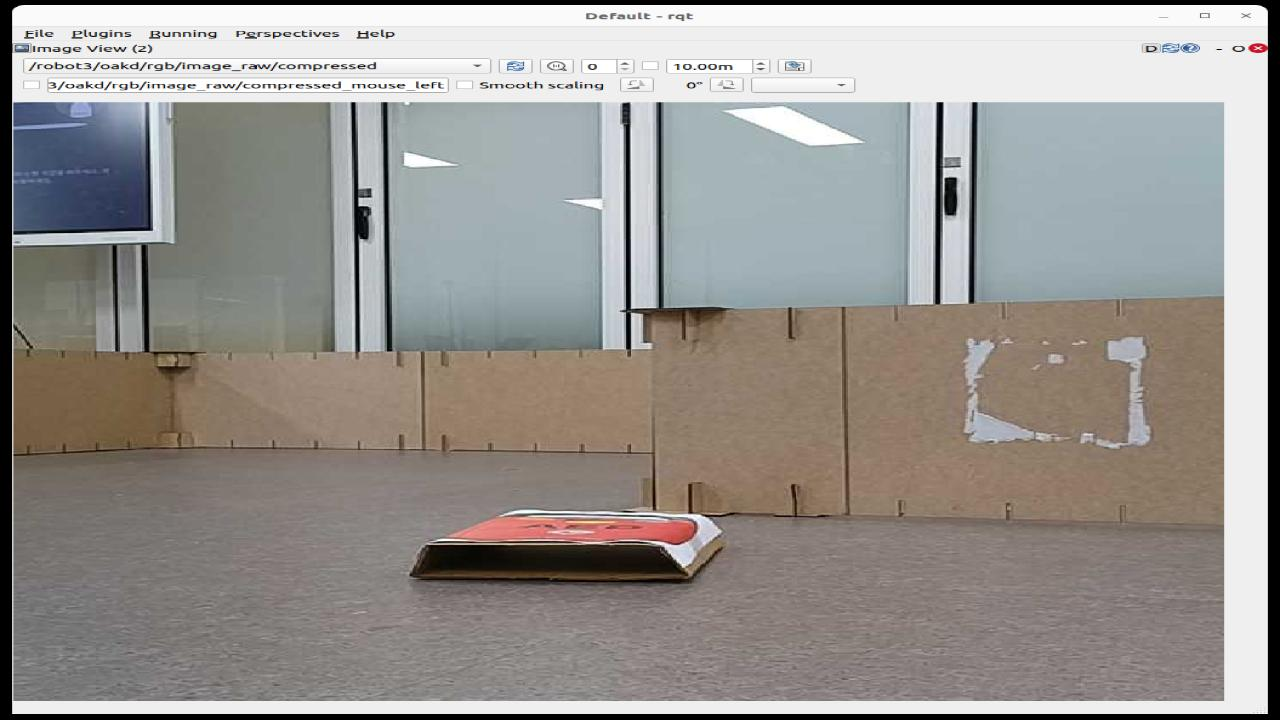AED: (453, 511, 694, 544)
